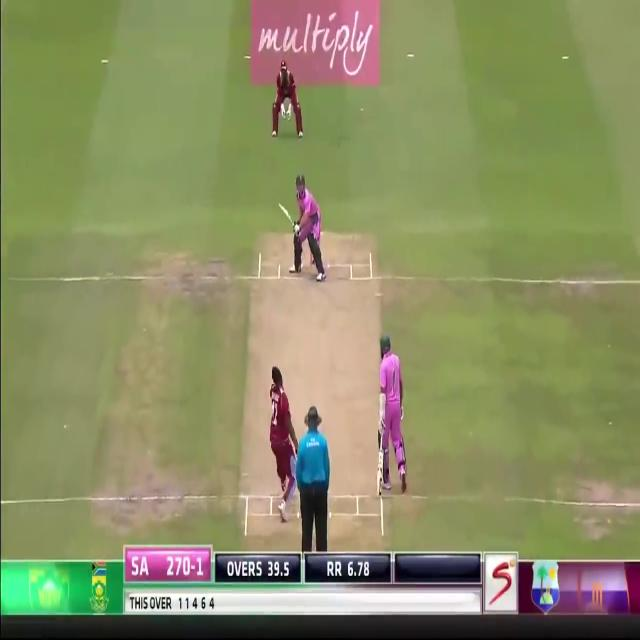Ball: (377, 334, 407, 494), (293, 174, 325, 278)
Fielder: (267, 365, 297, 520), (271, 61, 302, 138)
Umpire: (296, 406, 331, 550)
